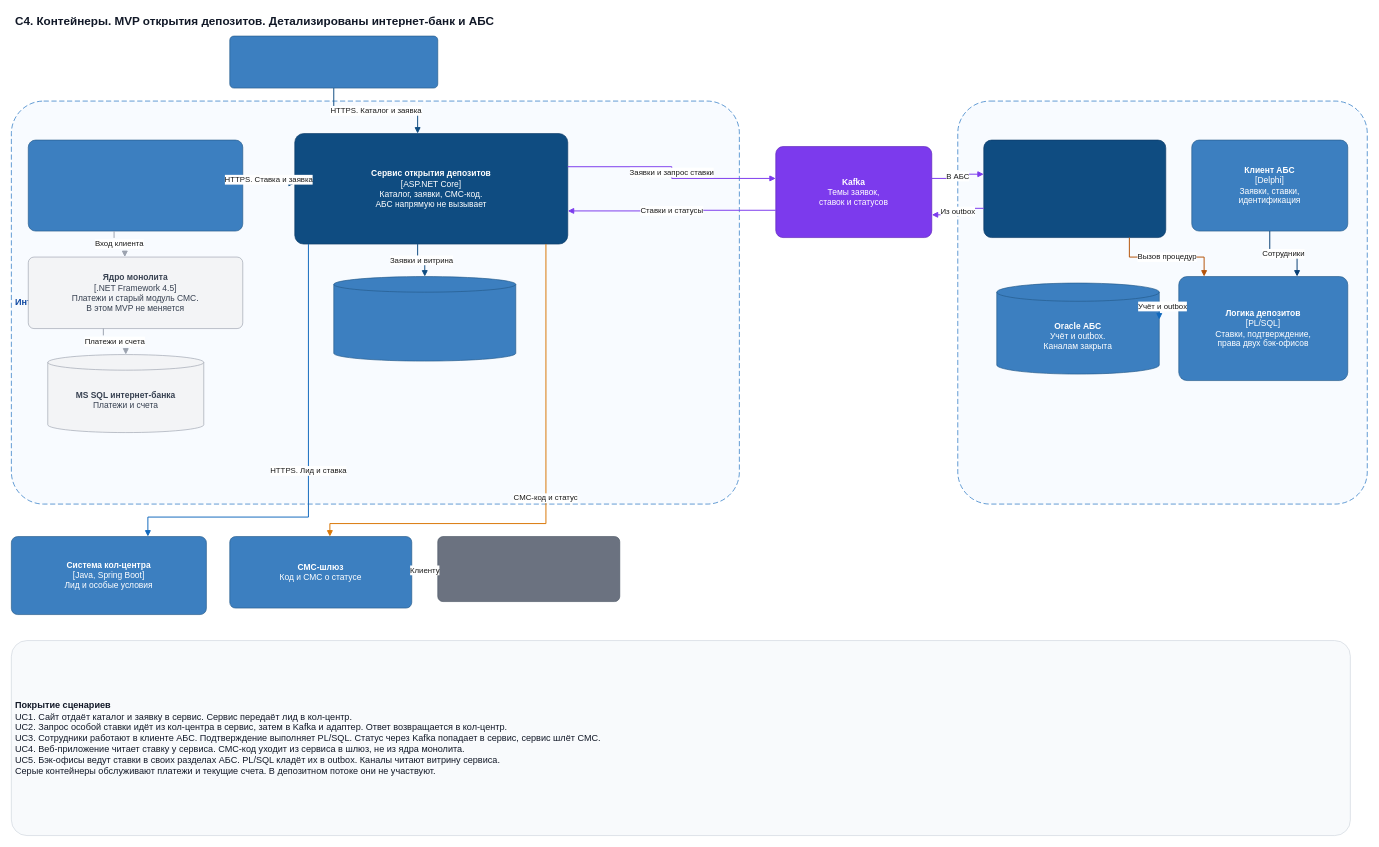
Some shapes in this 1379 by 847 pixel diagram are drawn without their labels. Each missing label, with the box of its shape:
MS SQL сервиса Заявки, витрина ставок, статусы и коды: (333, 276, 516, 361)
АБС [граница системы]: (957, 100, 1367, 504)
Адаптер АБС [Java] Outbox и вызов процедур. Поток в Oracle ограничен: (983, 139, 1166, 238)
Веб-приложение [ASP.NET MVC 4.5] Страницы депозитов. Делает команда банка: (28, 139, 243, 231)
Сайт [PHP, React.js] Каталог и заявка нового клиента: (229, 35, 438, 88)
Телеком-оператор [внешняя система] Доставка СМС: (437, 536, 620, 602)
